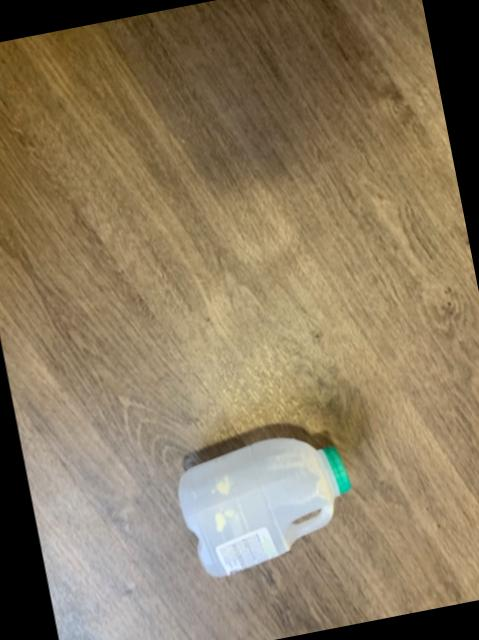plastic: (179, 438, 350, 576)
